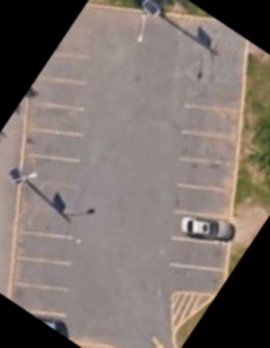parkingspot: (5, 1, 102, 341), (159, 99, 247, 300)
